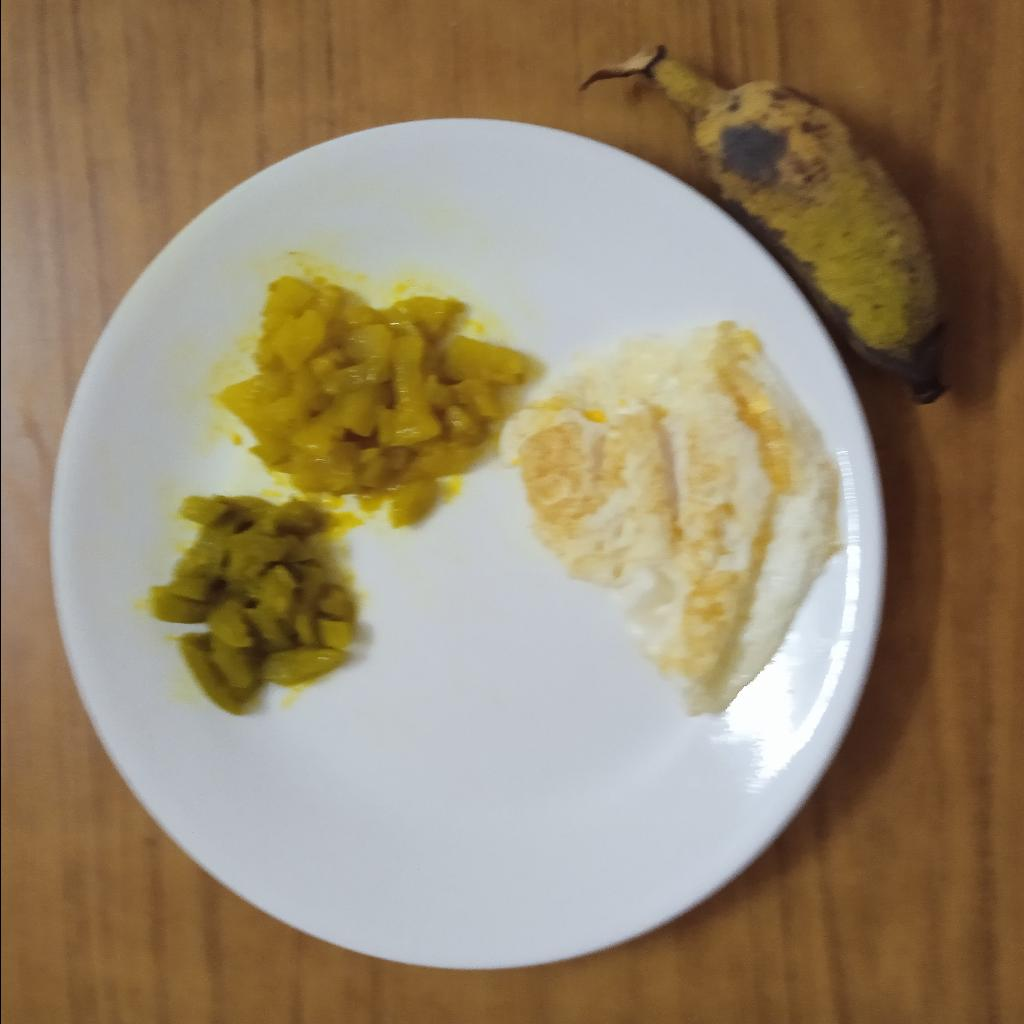banana: (651, 62, 954, 409)
dundol: (150, 493, 353, 723)
egg-poached: (496, 321, 838, 719)
lau: (209, 275, 528, 529)
